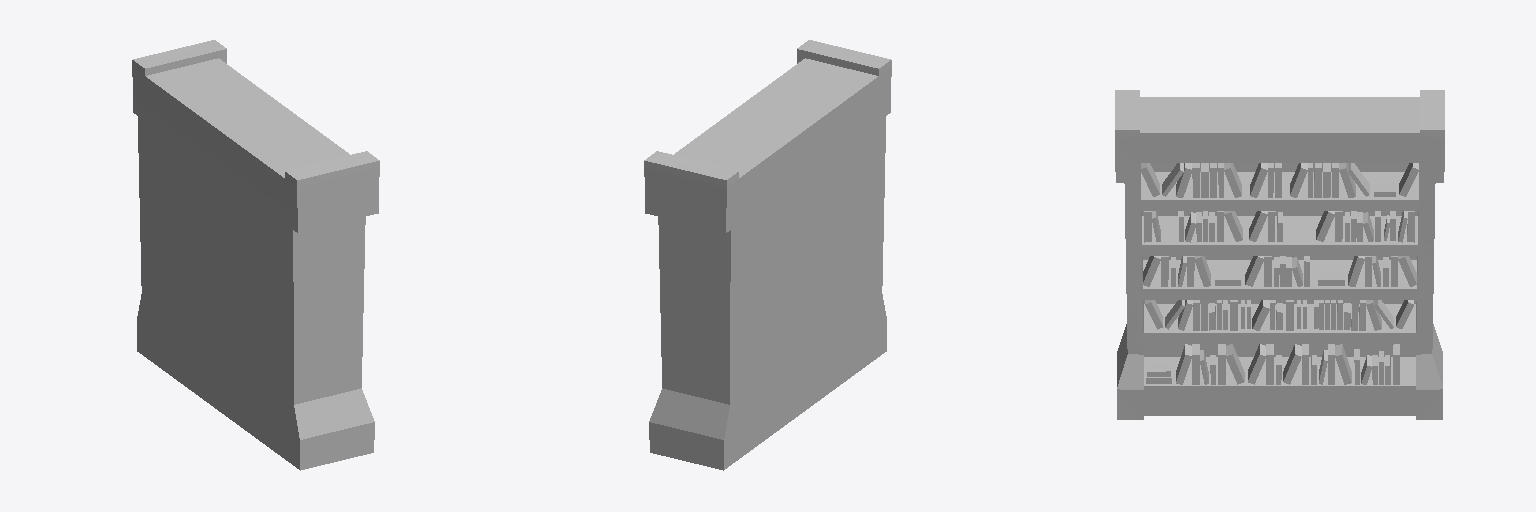
File: BookCaseLargeBooks.obj
3 views of the same model, side by side, from view 1: azimuth 30°, elevation 25°; view 2: azimuth 150°, elevation 25°; view 3: azimuth 270°, elevation 25° (orthographic).
Visible parts, largest first — view 1: BookCaseLargeBooks; view 2: BookCaseLargeBooks; view 3: BookCaseLargeBooks.
Boxes of the visible parts, x1,y1,x2,y2 form: BookCaseLargeBooks: [132, 40, 379, 470]; BookCaseLargeBooks: [644, 40, 891, 470]; BookCaseLargeBooks: [1115, 90, 1444, 419].
Size of the model in its own units: 0.4519 by 1.53 by 1.57.